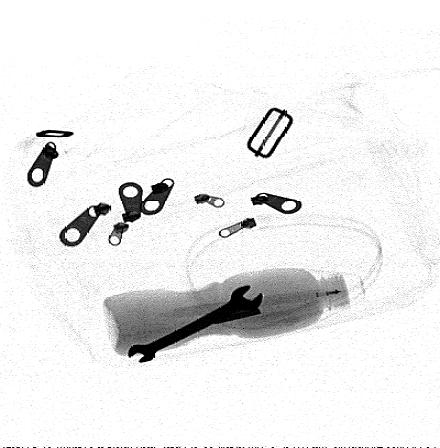Wrench: (127, 286, 264, 363)
